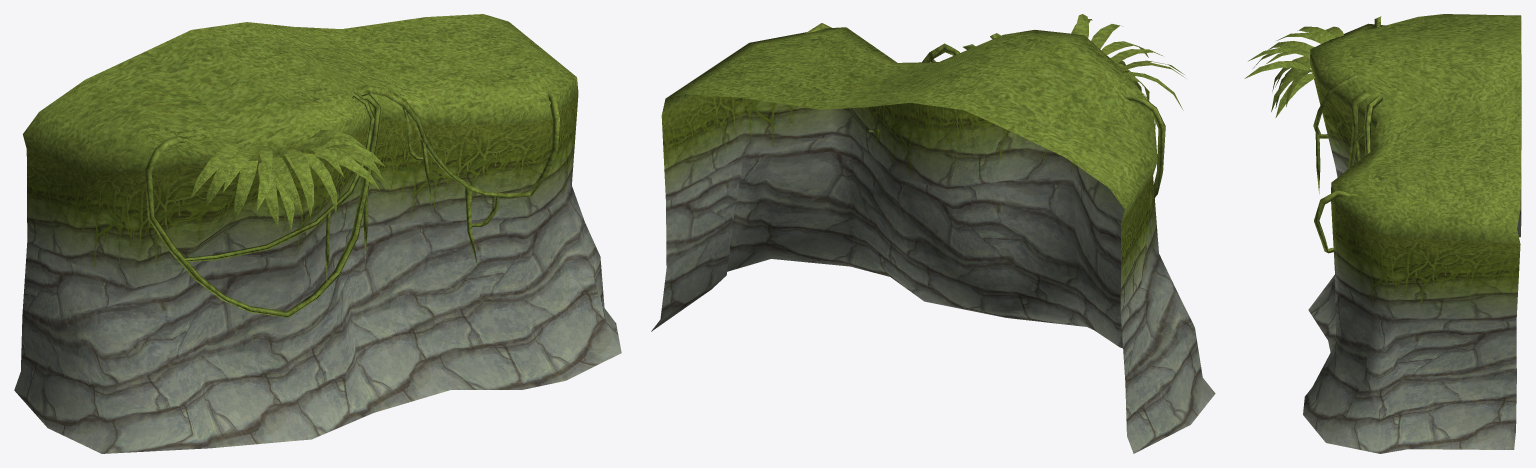
File: beach cliff D.FBX
3 renders of one model, left to right at view 1: azimuth 30°, elevation 25°; view 2: azimuth 150°, elevation 25°; view 3: azimuth 270°, elevation 25°, orthographic. The views are drawn at different scales.
Visible parts, largest first — view 1: beach cliff D; view 2: beach cliff D; view 3: beach cliff D.
Boxes of the visible parts, x1=… form: beach cliff D: x1=14, y1=14, x2=621, y2=453; beach cliff D: x1=651, y1=14, x2=1215, y2=453; beach cliff D: x1=1244, y1=14, x2=1521, y2=453.
Bounding box in the file's own units: 28.32 × 16.12 × 14.95.
